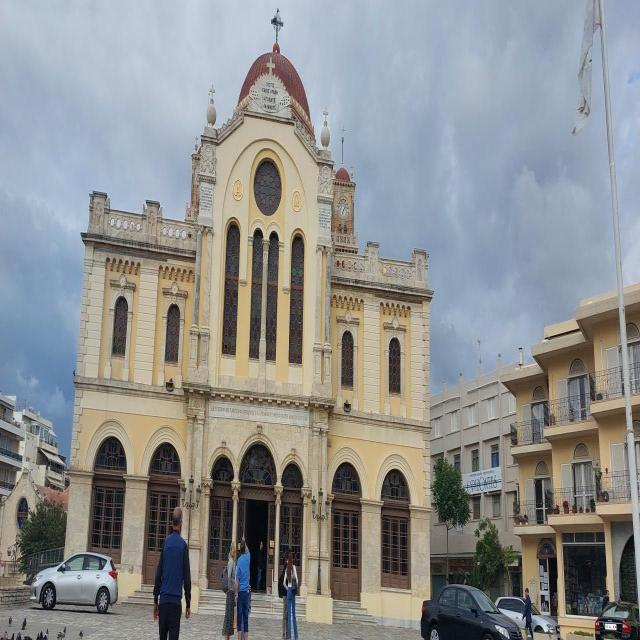Agios Minas: (64, 1, 434, 628)
